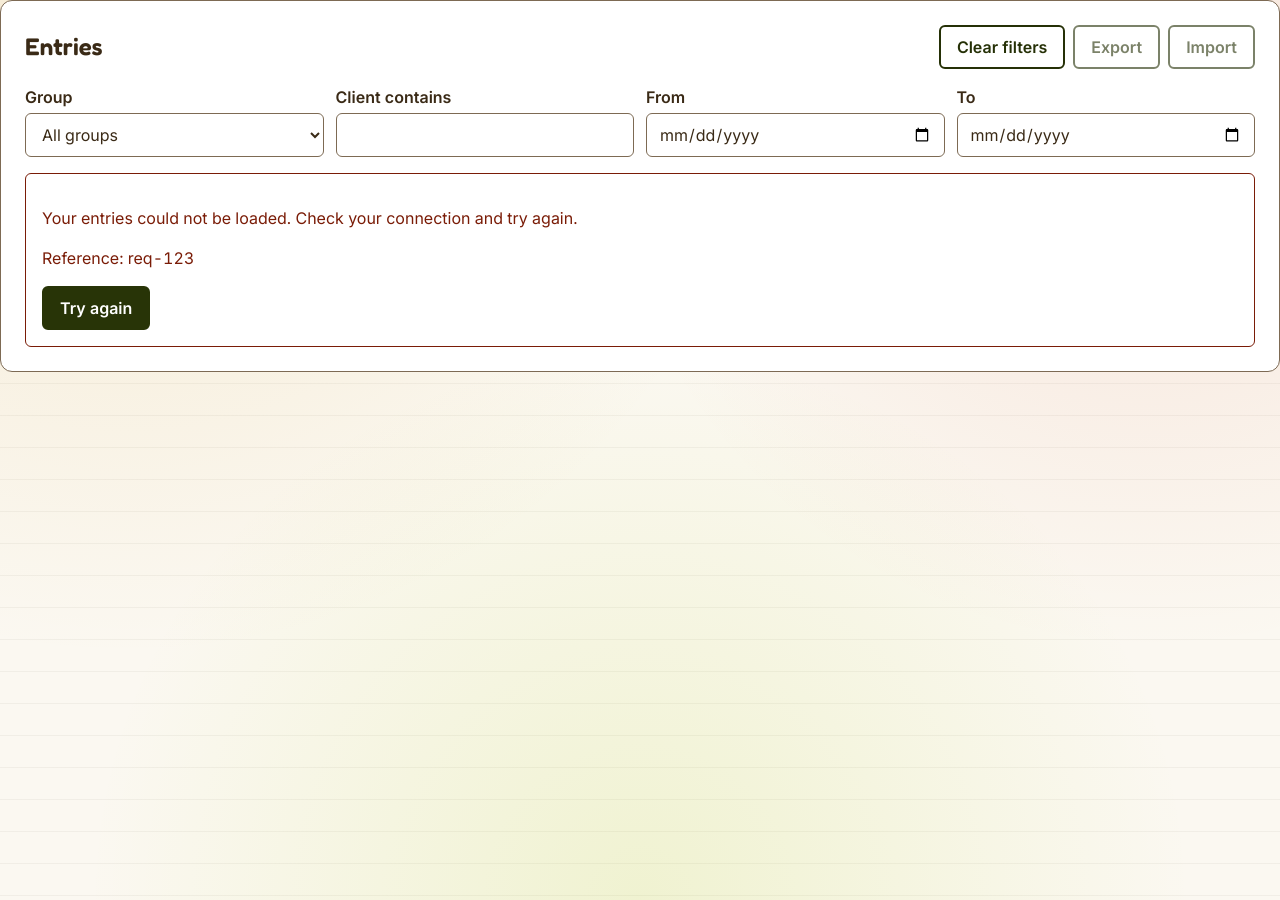
states › shows a plain-language error with a request reference and retries
Expected: the message shows "Your entries could not be loaded", [42,208,578,228]
Expected: the message shows "req-123", [128,248,194,268]
Click the button "Try again" at (96, 308), box [42,286,150,330]
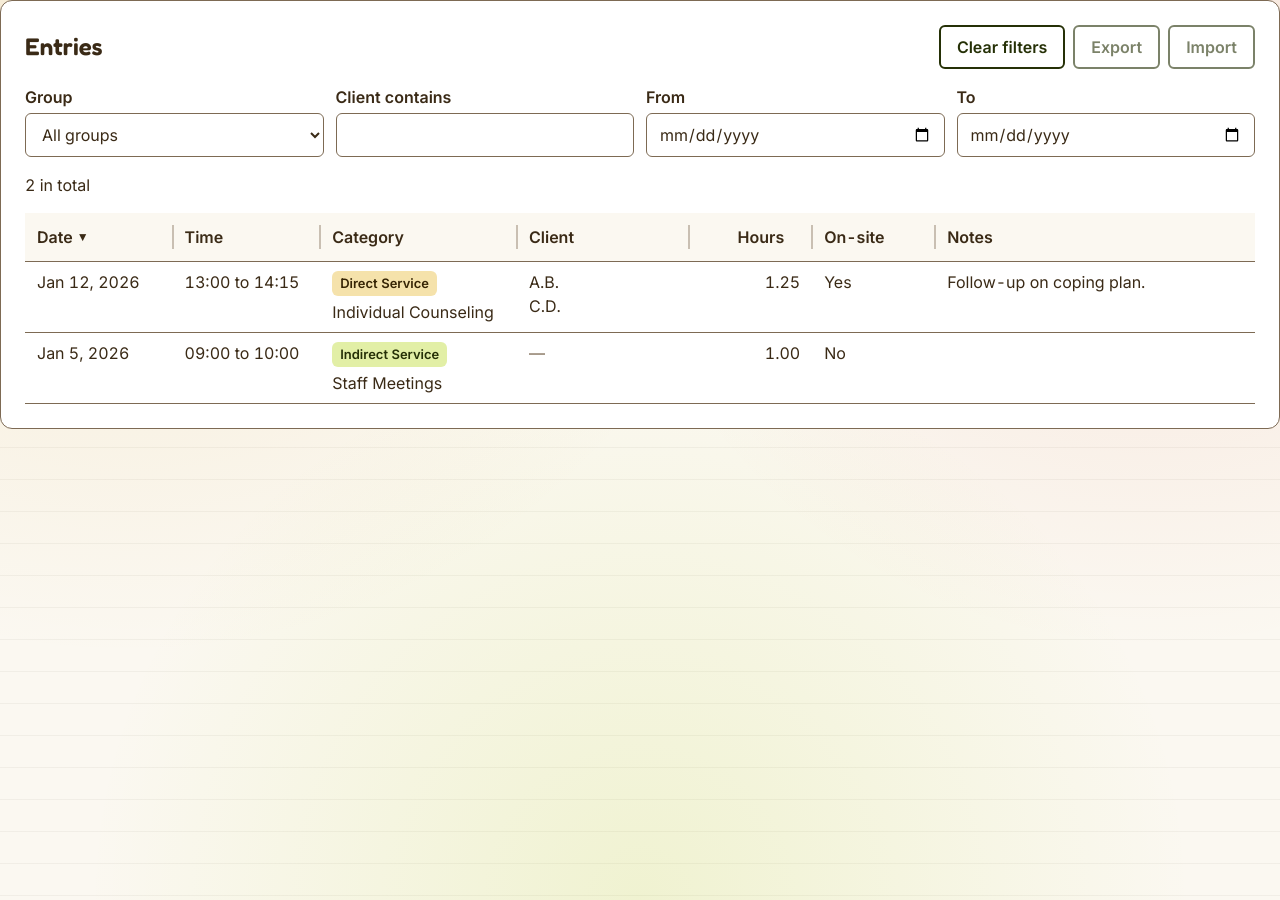
Result: the table is shown at [25,213,1255,404]
